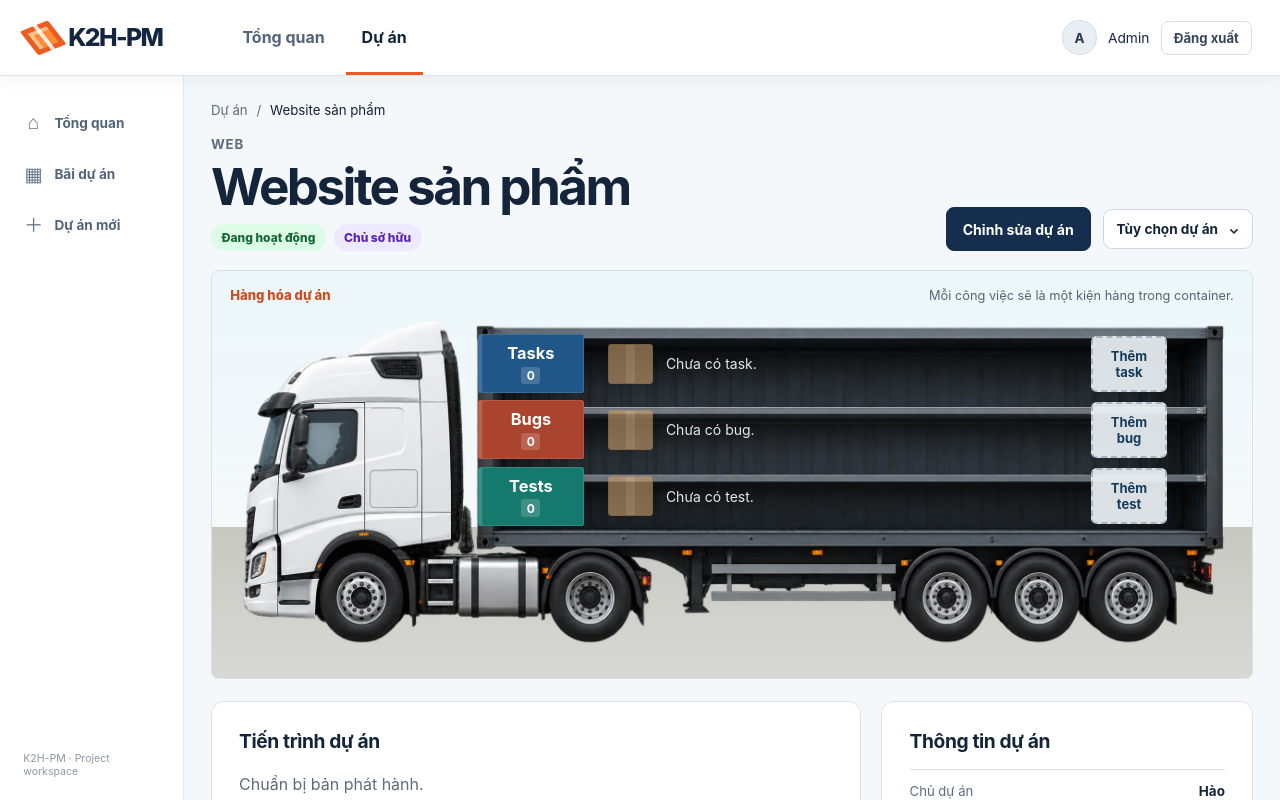
it: ProjectDetailPage › puts project progress and ownership ahead of secondary actions
Expected: the heading "Website sản phẩm" is shown, [211, 159, 630, 215]
Expected: the heading "Tiến trình dự án" is shown, [239, 729, 380, 753]
Click the button "Tùy chọn dự án ⌄" at (1178,229), box [1103, 209, 1253, 249]
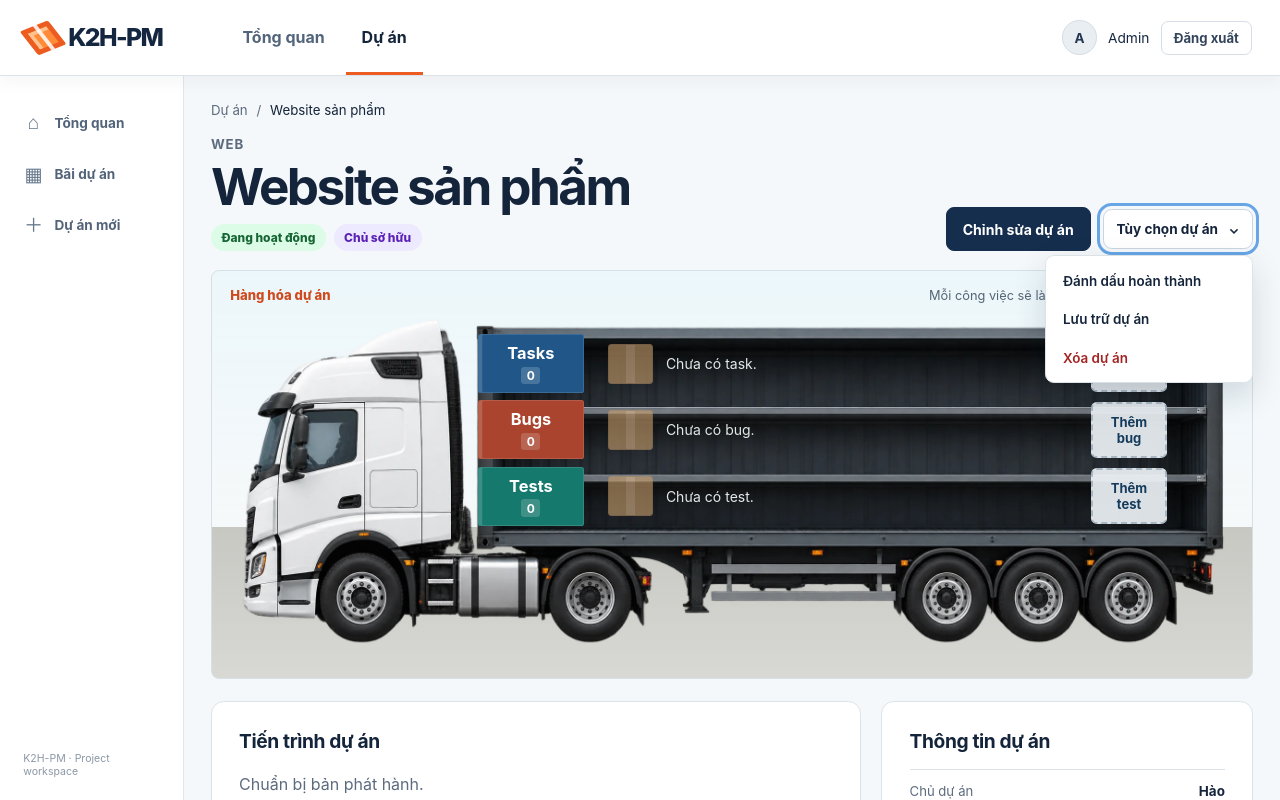
Now the button "Xóa dự án" is shown, box [1052, 338, 1246, 377]
Press Escape
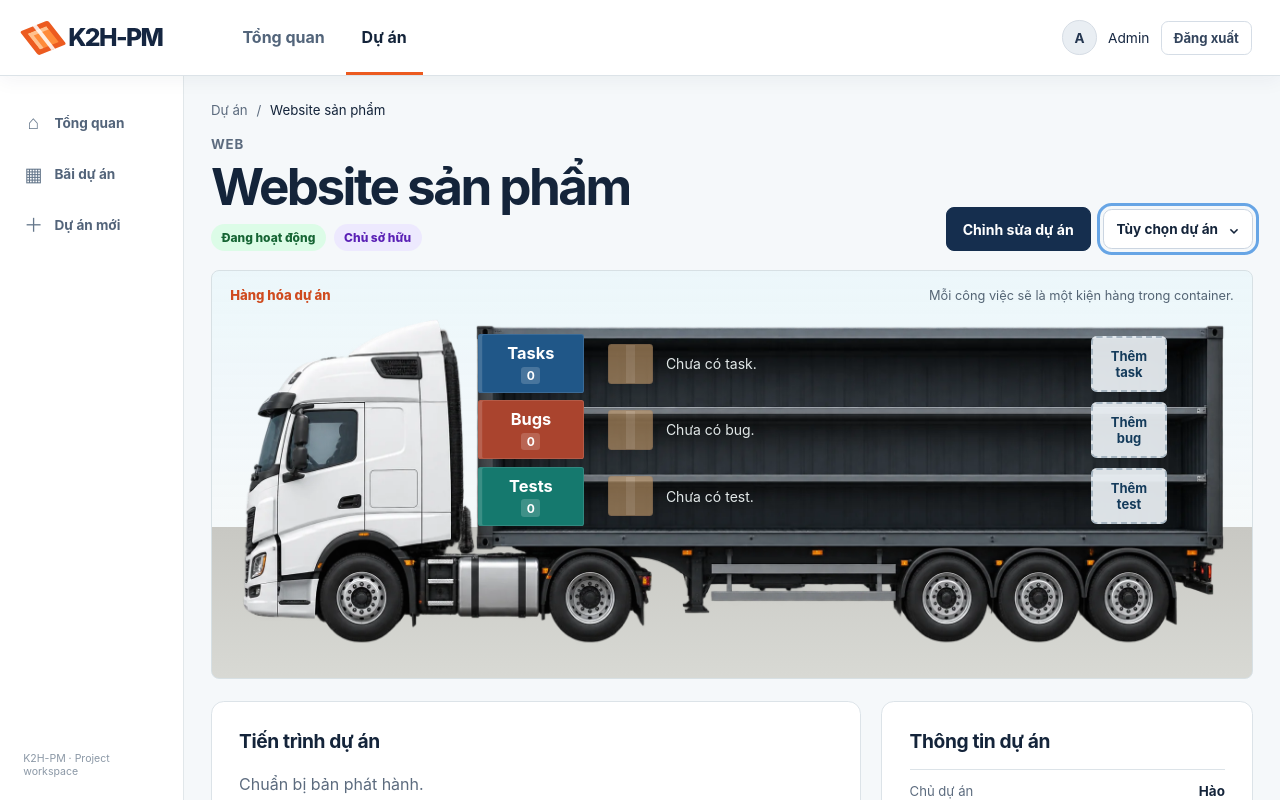
Now the button "Xóa dự án" is gone
Click the button "Tùy chọn dự án ⌄" at (1178,229), box [1103, 209, 1253, 249]
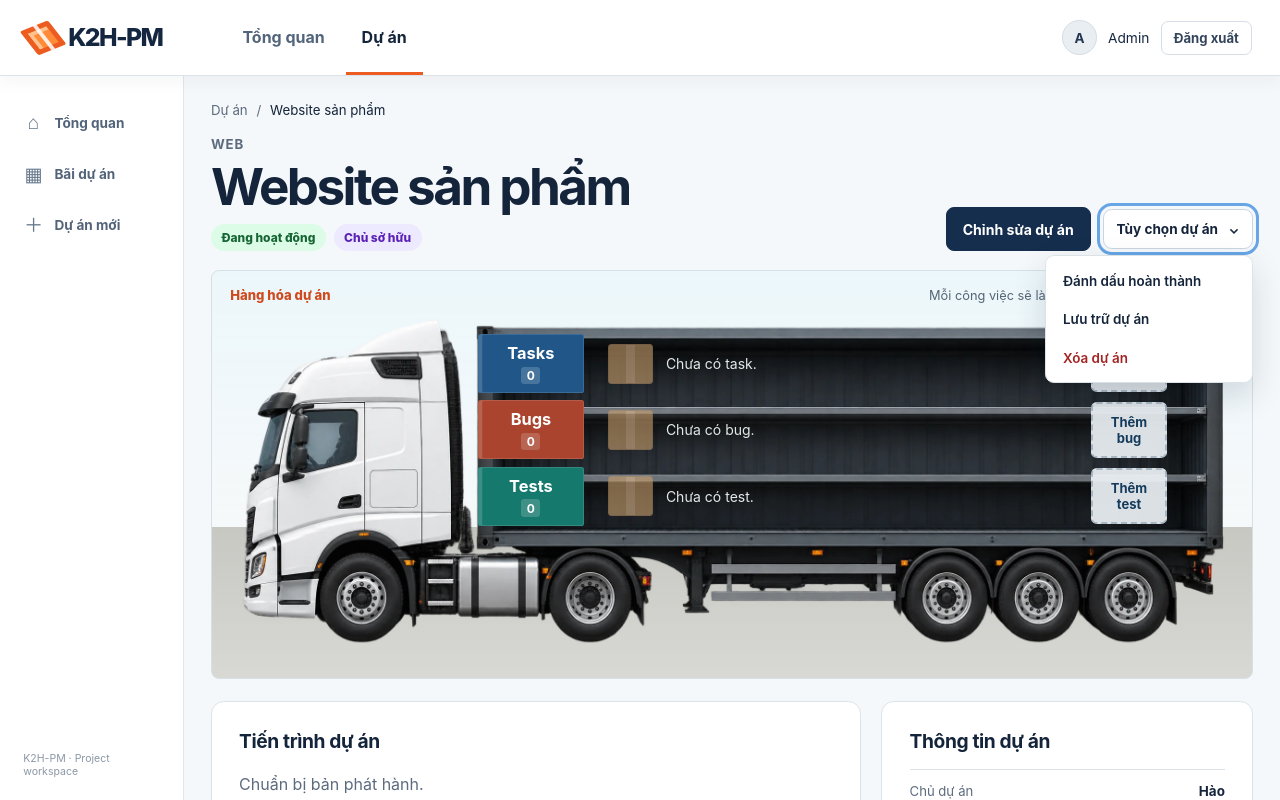
Click the heading "Tiến trình dự án" at (309,741), box [239, 729, 380, 753]
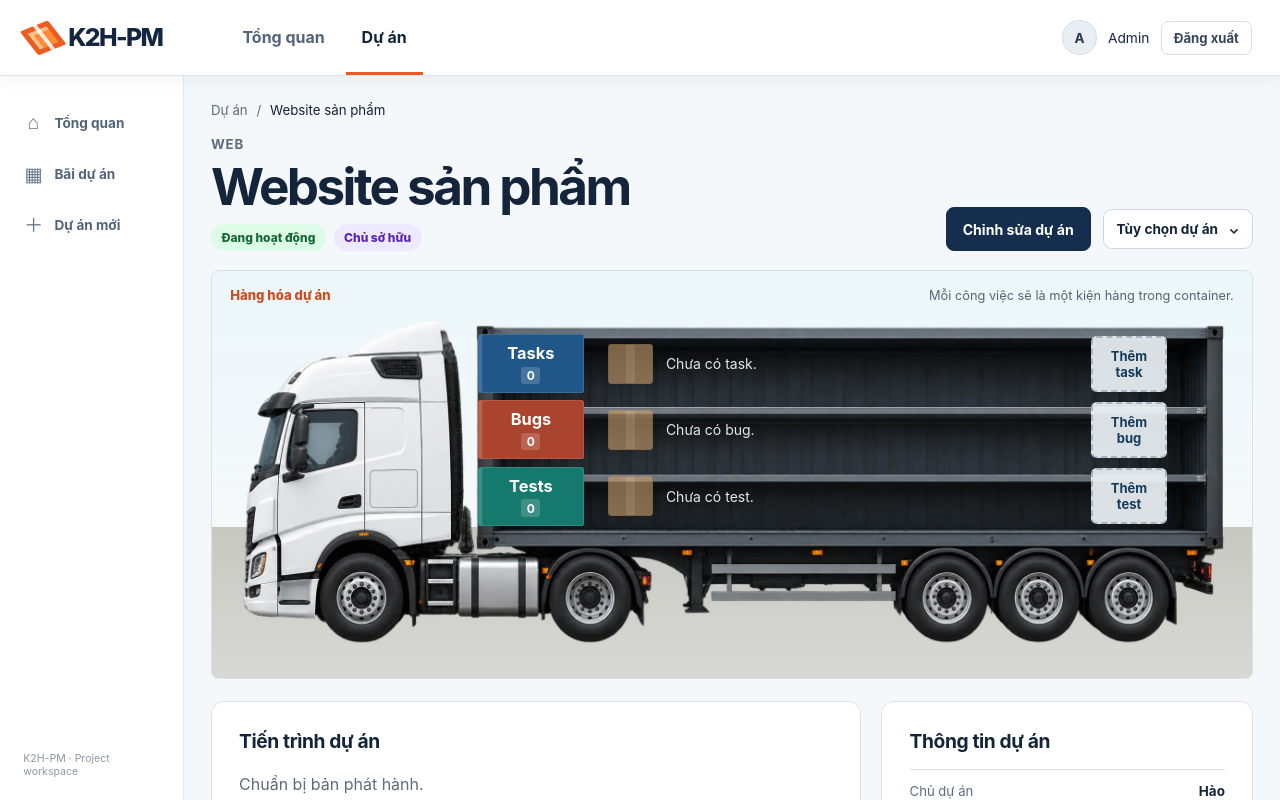
Now the button "Xóa dự án" is gone
